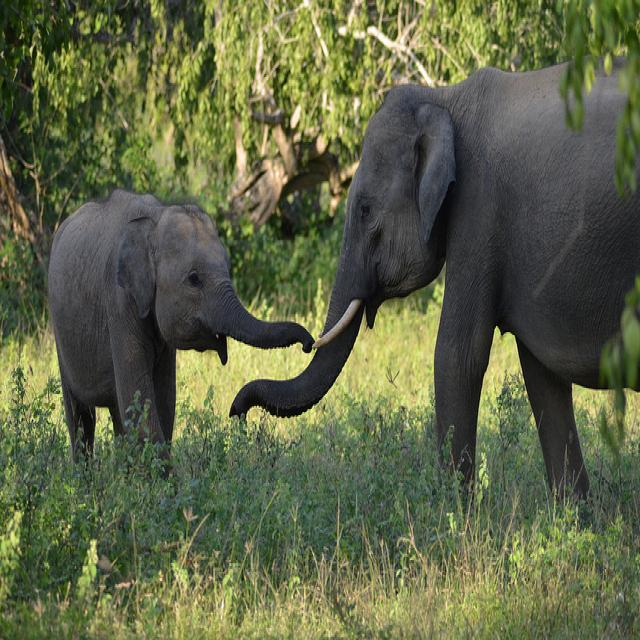Elephant: (229, 51, 639, 515), (46, 187, 315, 479)
